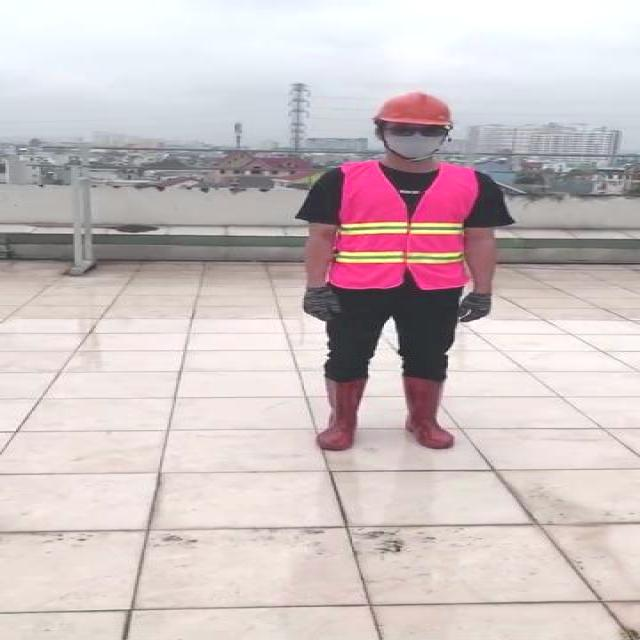boots: (311, 376, 375, 449), (402, 378, 455, 448)
face_mask: (384, 123, 452, 159)
glasses: (382, 123, 452, 140)
hand_glove: (450, 290, 496, 322), (303, 288, 342, 321)
head_helmet: (370, 90, 460, 126)
person: (293, 90, 511, 460)
vest: (331, 164, 480, 288)
